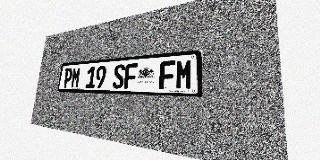1: (85, 66, 97, 88)
9: (95, 65, 107, 88)
F: (159, 60, 176, 90), (124, 63, 138, 89)
M: (175, 59, 193, 90), (70, 67, 81, 88)
P: (63, 68, 73, 88)
S: (112, 64, 125, 89)
